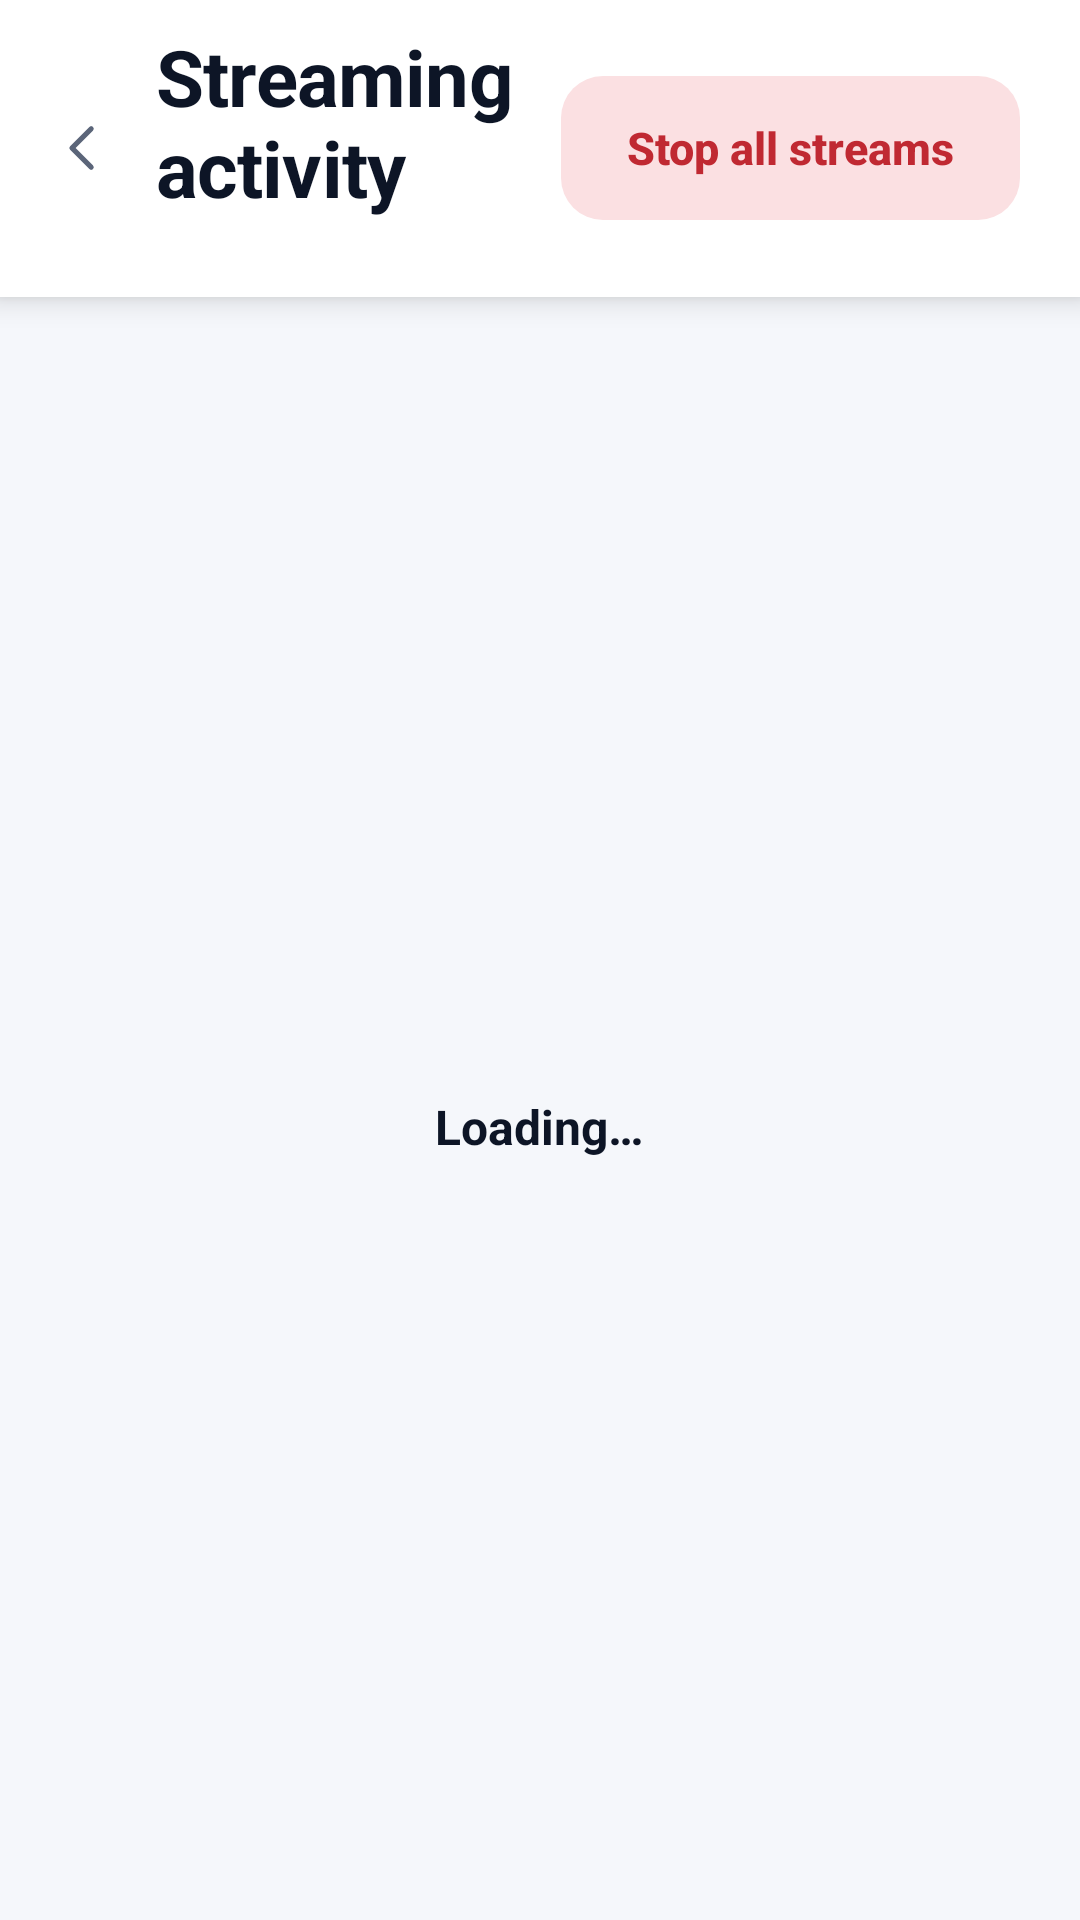

Locate icon controls on the screen. Image size 1080w x 1920h, boxes as box=[x1, y1, x2, y2].
Go back: box=[69, 126, 94, 170]
